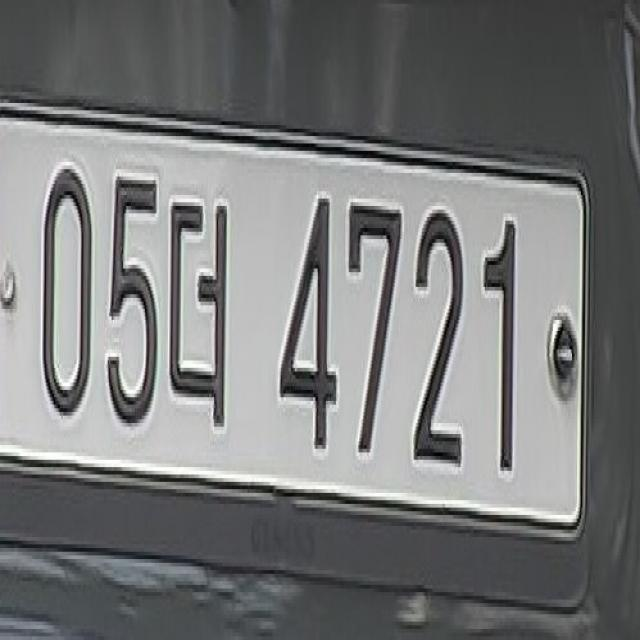0: (36, 147, 93, 427)
1: (481, 203, 526, 482)
2: (412, 186, 474, 477)
4: (272, 163, 342, 471)
5: (107, 163, 160, 442)
7: (346, 194, 408, 474)
deo: (167, 172, 239, 454)
license_plate: (1, 118, 618, 484)
